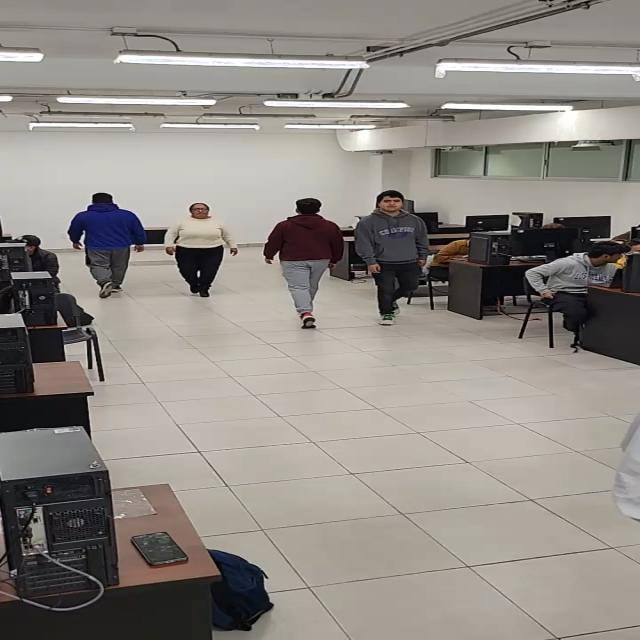Persona: (264, 198, 346, 328), (354, 190, 432, 326), (67, 193, 146, 298), (165, 202, 239, 298)
